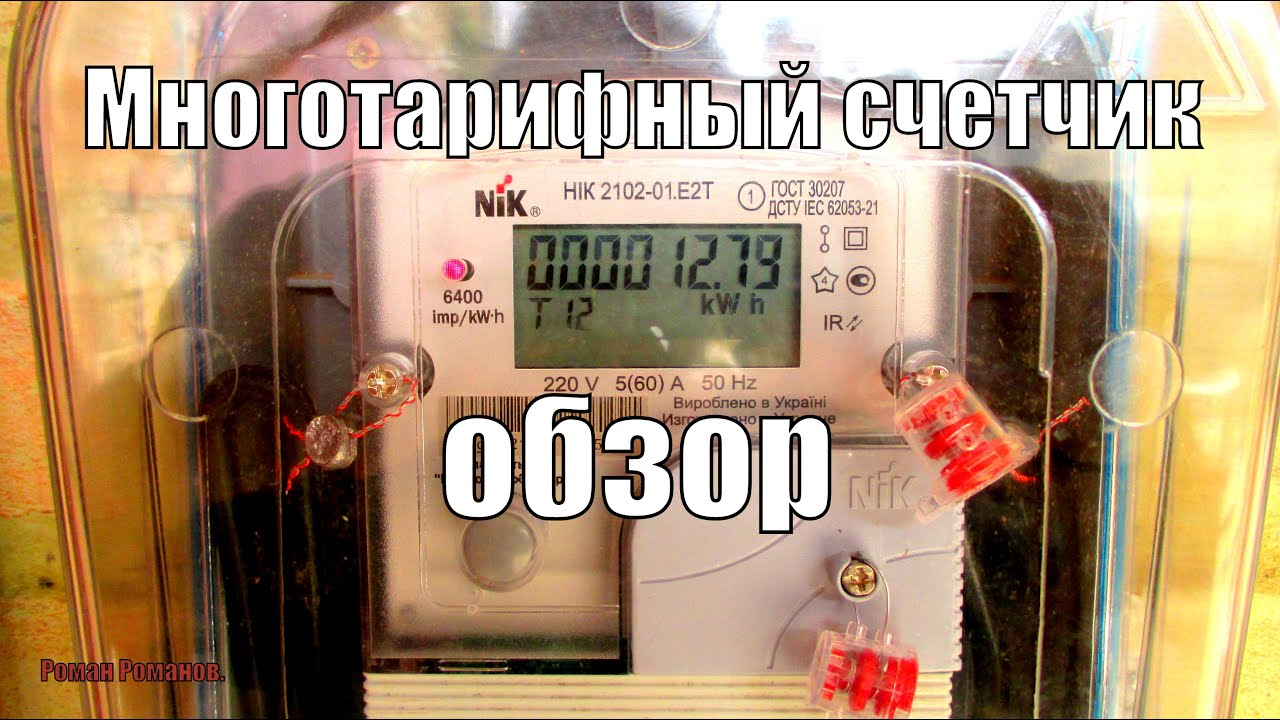counter: (355, 128, 965, 671)
counter_screen: (506, 220, 805, 372)
